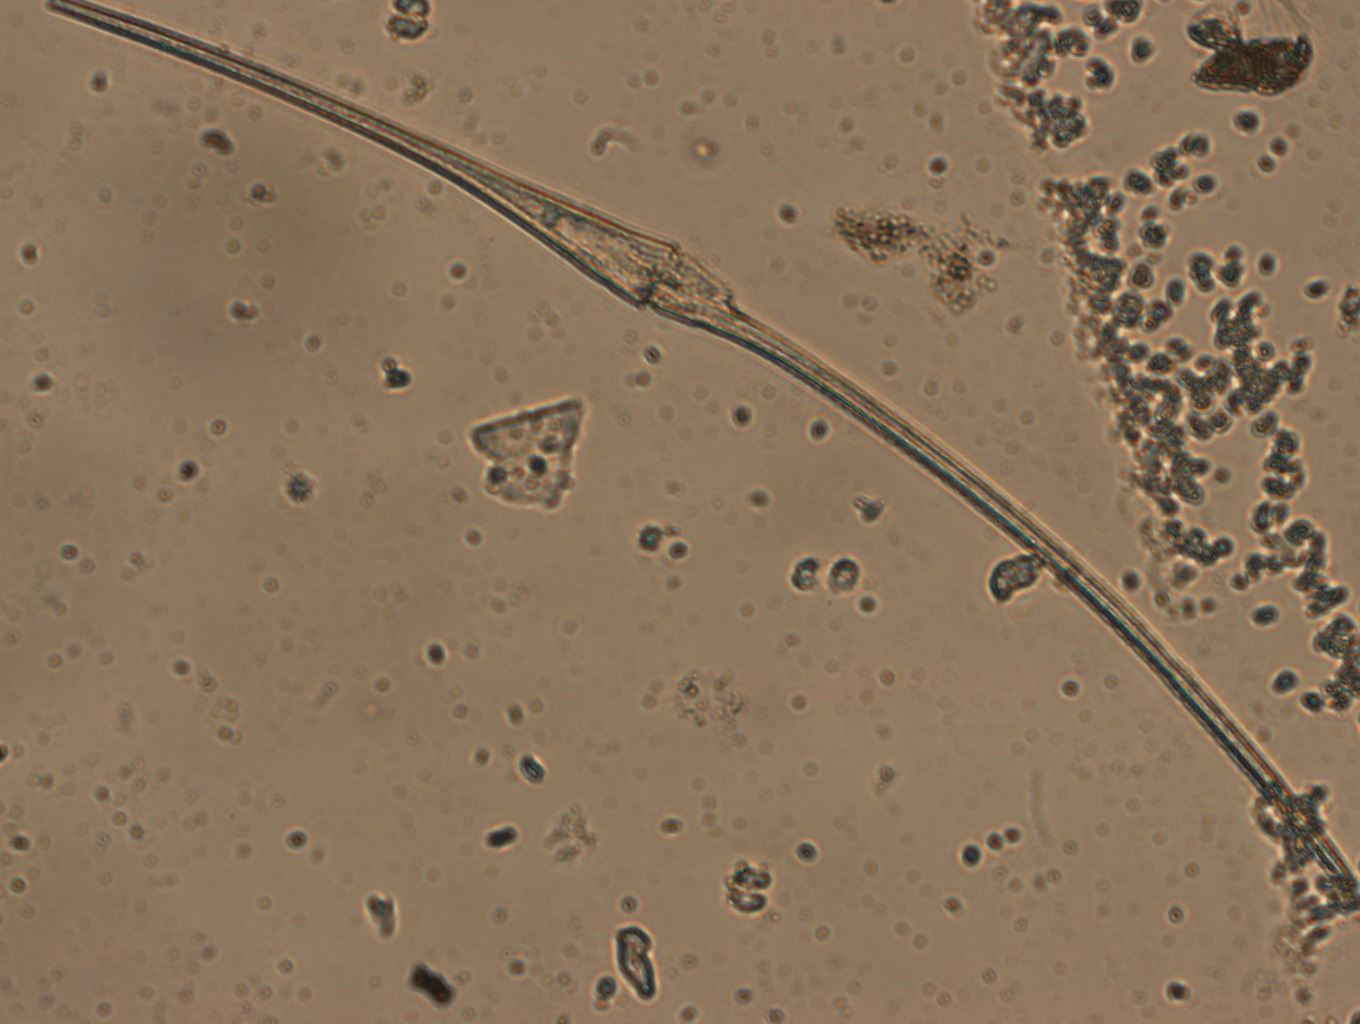ceratium fusus: (35, 1, 1358, 897)
